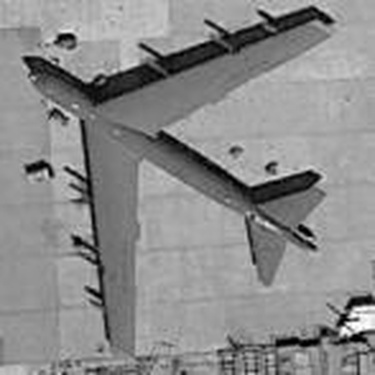airplane: (14, 6, 354, 370)
